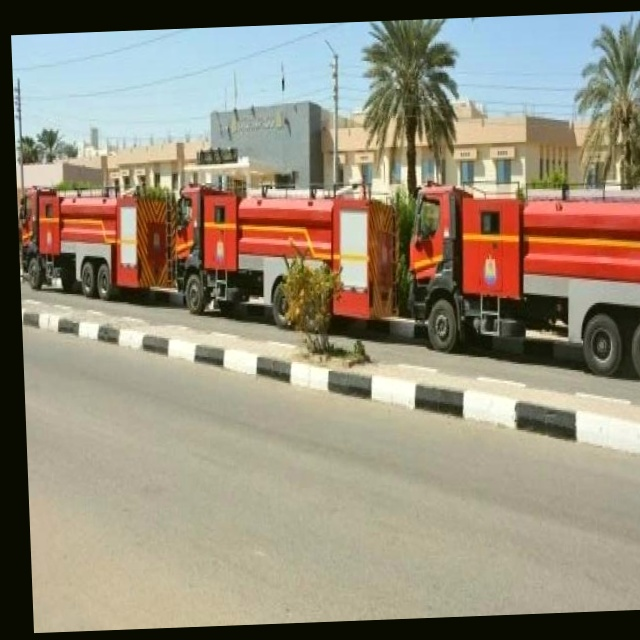Fire-truck: (402, 140, 640, 437), (158, 154, 398, 352), (15, 142, 162, 310)
